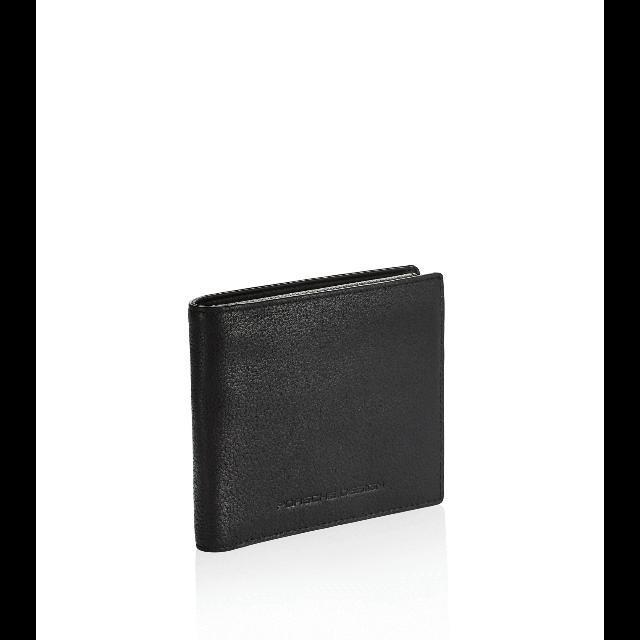wallet: (169, 249, 511, 557)
